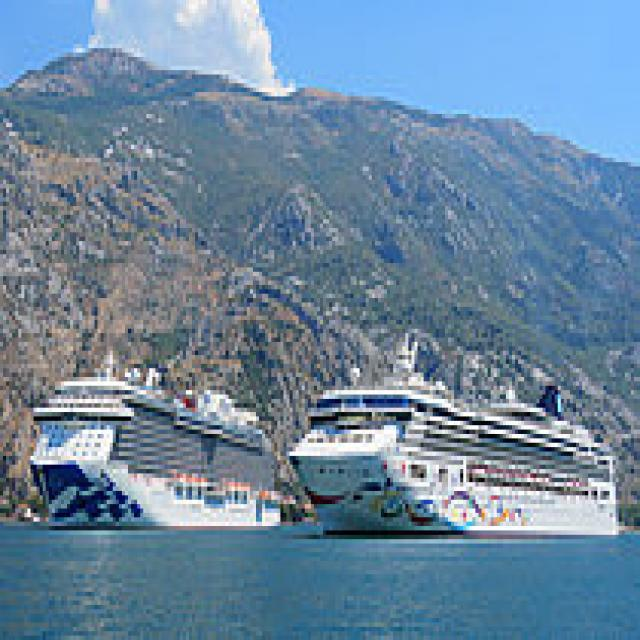Ship: (297, 347, 629, 549), (26, 356, 294, 540)
